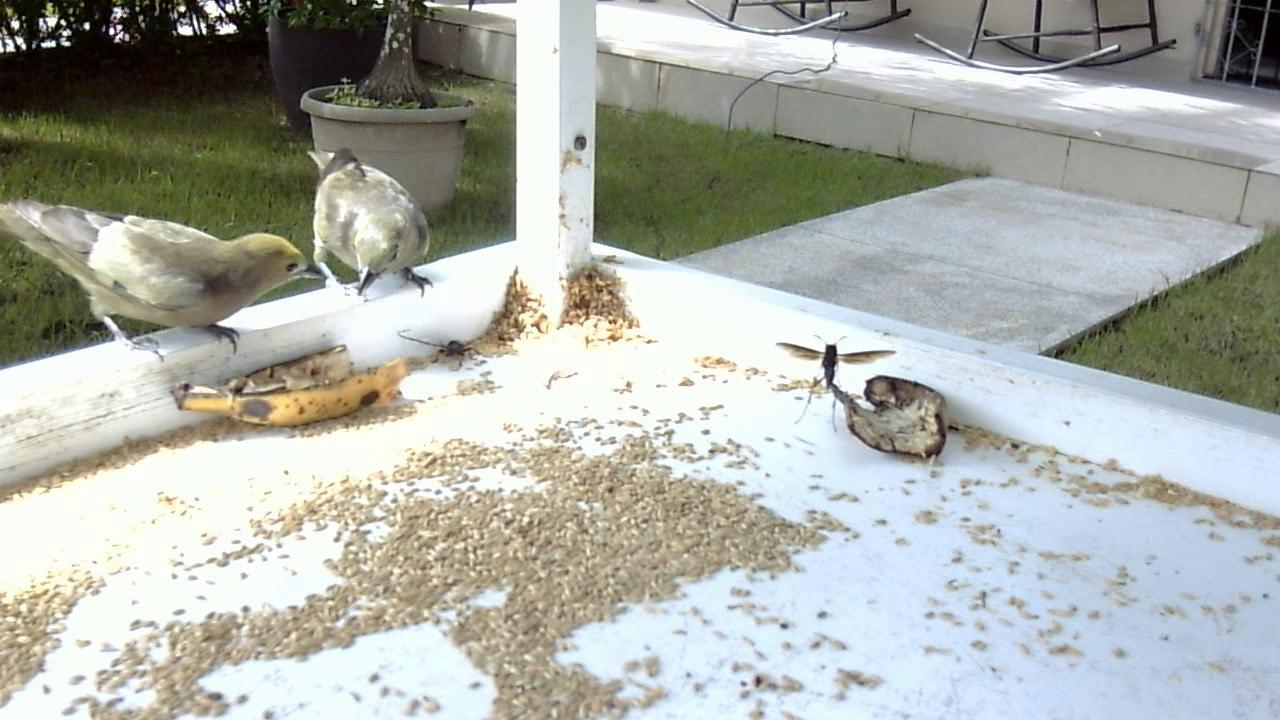sanhaco_do_coqueiro: (1, 182, 331, 374), (294, 137, 439, 304)
